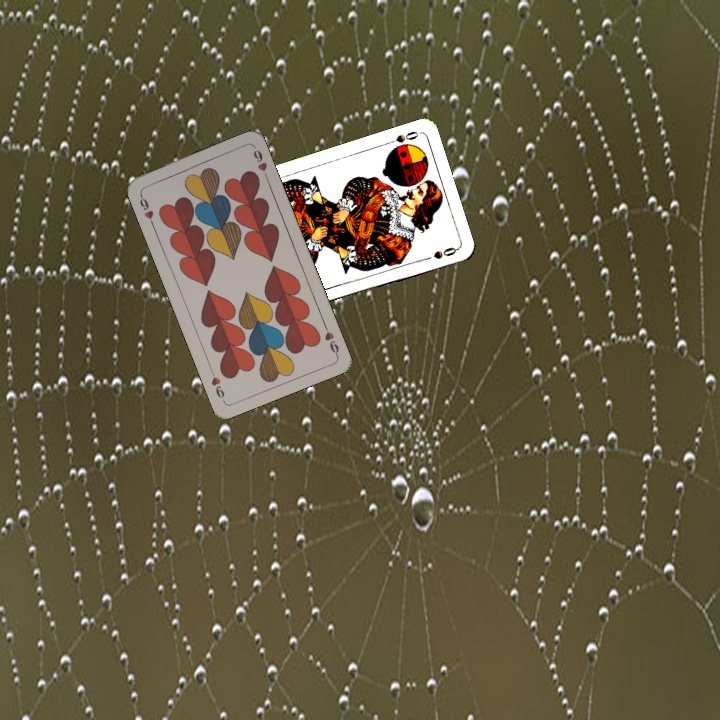H9: (319, 319, 341, 358), (135, 190, 157, 229)
SO: (382, 127, 421, 147)
